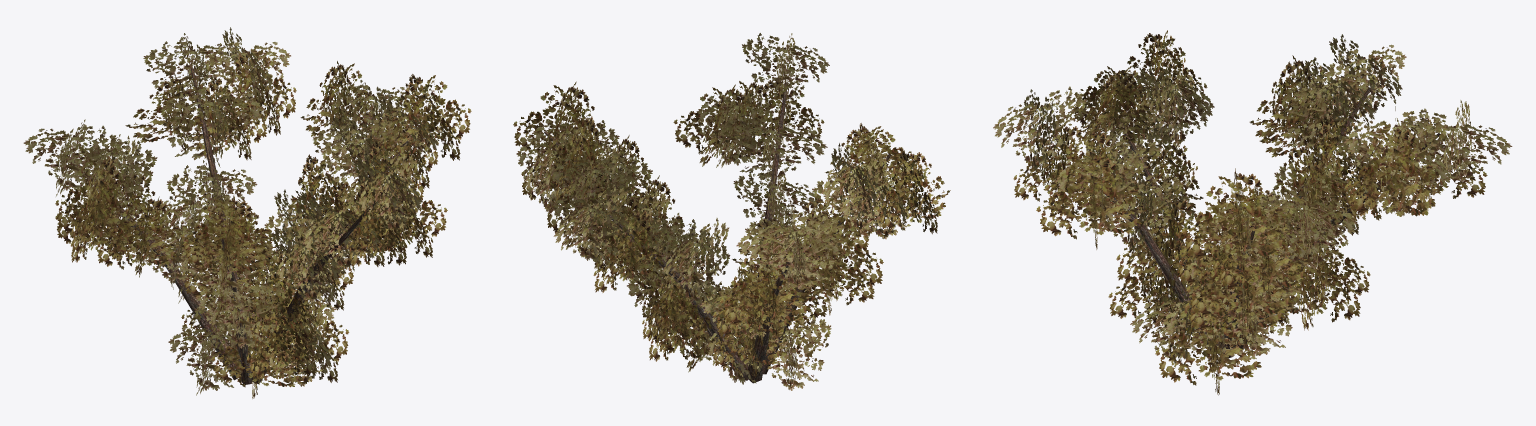
The model's file is bush_3d_01_golden_beige_lod1.glb.
3 renders of one model, left to right at view 1: azimuth 30°, elevation 25°; view 2: azimuth 150°, elevation 25°; view 3: azimuth 270°, elevation 25°, orthographic. The views are drawn at different scales.
Parts seen in each view (by area): view 1: foliage_cards, wood_geometry; view 2: foliage_cards, wood_geometry; view 3: foliage_cards, wood_geometry.
Part boxes in pixels (bbox=[...]): foliage_cards: bbox=[23, 27, 471, 398]; wood_geometry: bbox=[74, 67, 430, 384]; foliage_cards: bbox=[513, 33, 950, 390]; wood_geometry: bbox=[544, 82, 891, 383]; foliage_cards: bbox=[993, 30, 1512, 395]; wood_geometry: bbox=[1052, 87, 1440, 358].
Size of the model in its own units: 2 by 1.29 by 2.12.
Materials: 2 (2 with a texture image).
